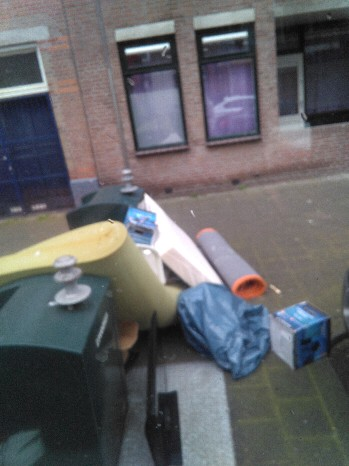Container: (9, 284, 116, 454), (85, 180, 135, 233)
Plastic: (137, 325, 187, 458)
Rest: (194, 282, 270, 369), (30, 233, 146, 286), (203, 229, 260, 303), (146, 208, 200, 282), (278, 310, 332, 372)
